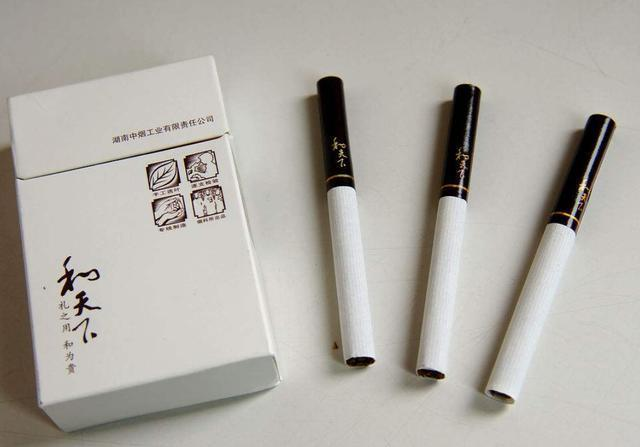smoke: (486, 113, 617, 405), (415, 83, 483, 381), (316, 77, 378, 368)
